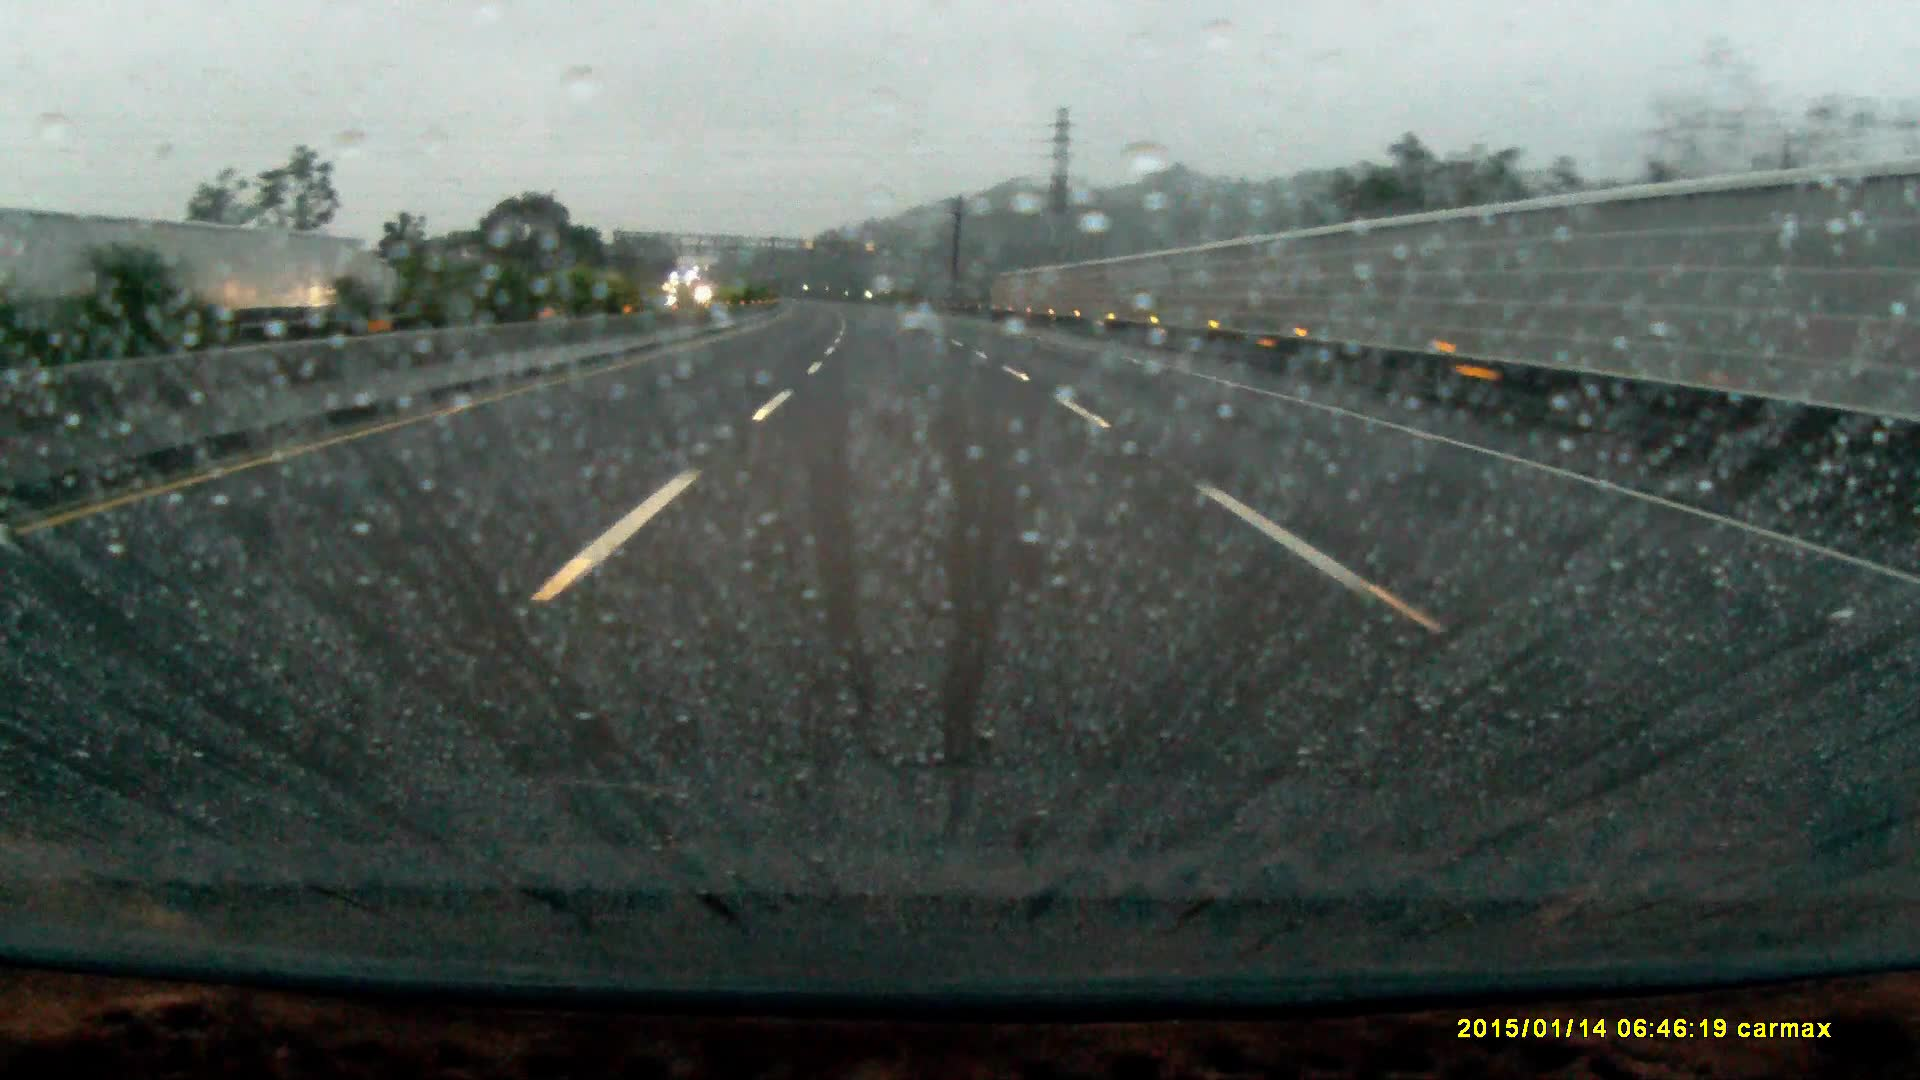vehicle: (666, 272, 702, 301)
